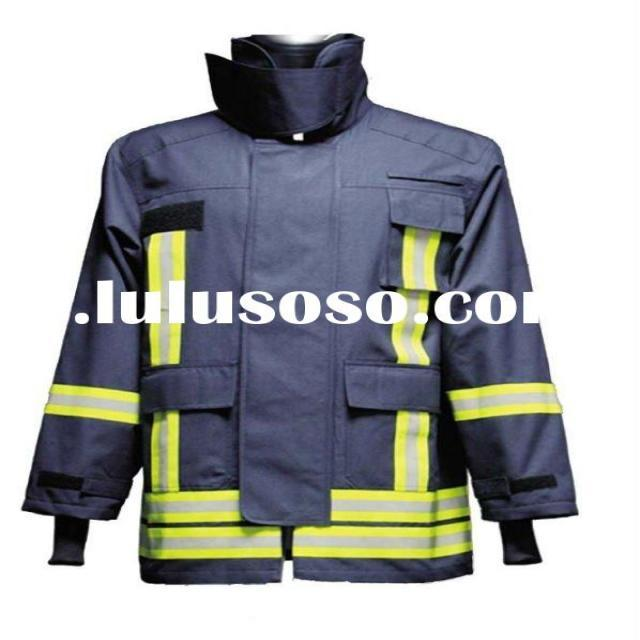reflective_jacket: (12, 88, 569, 601)
